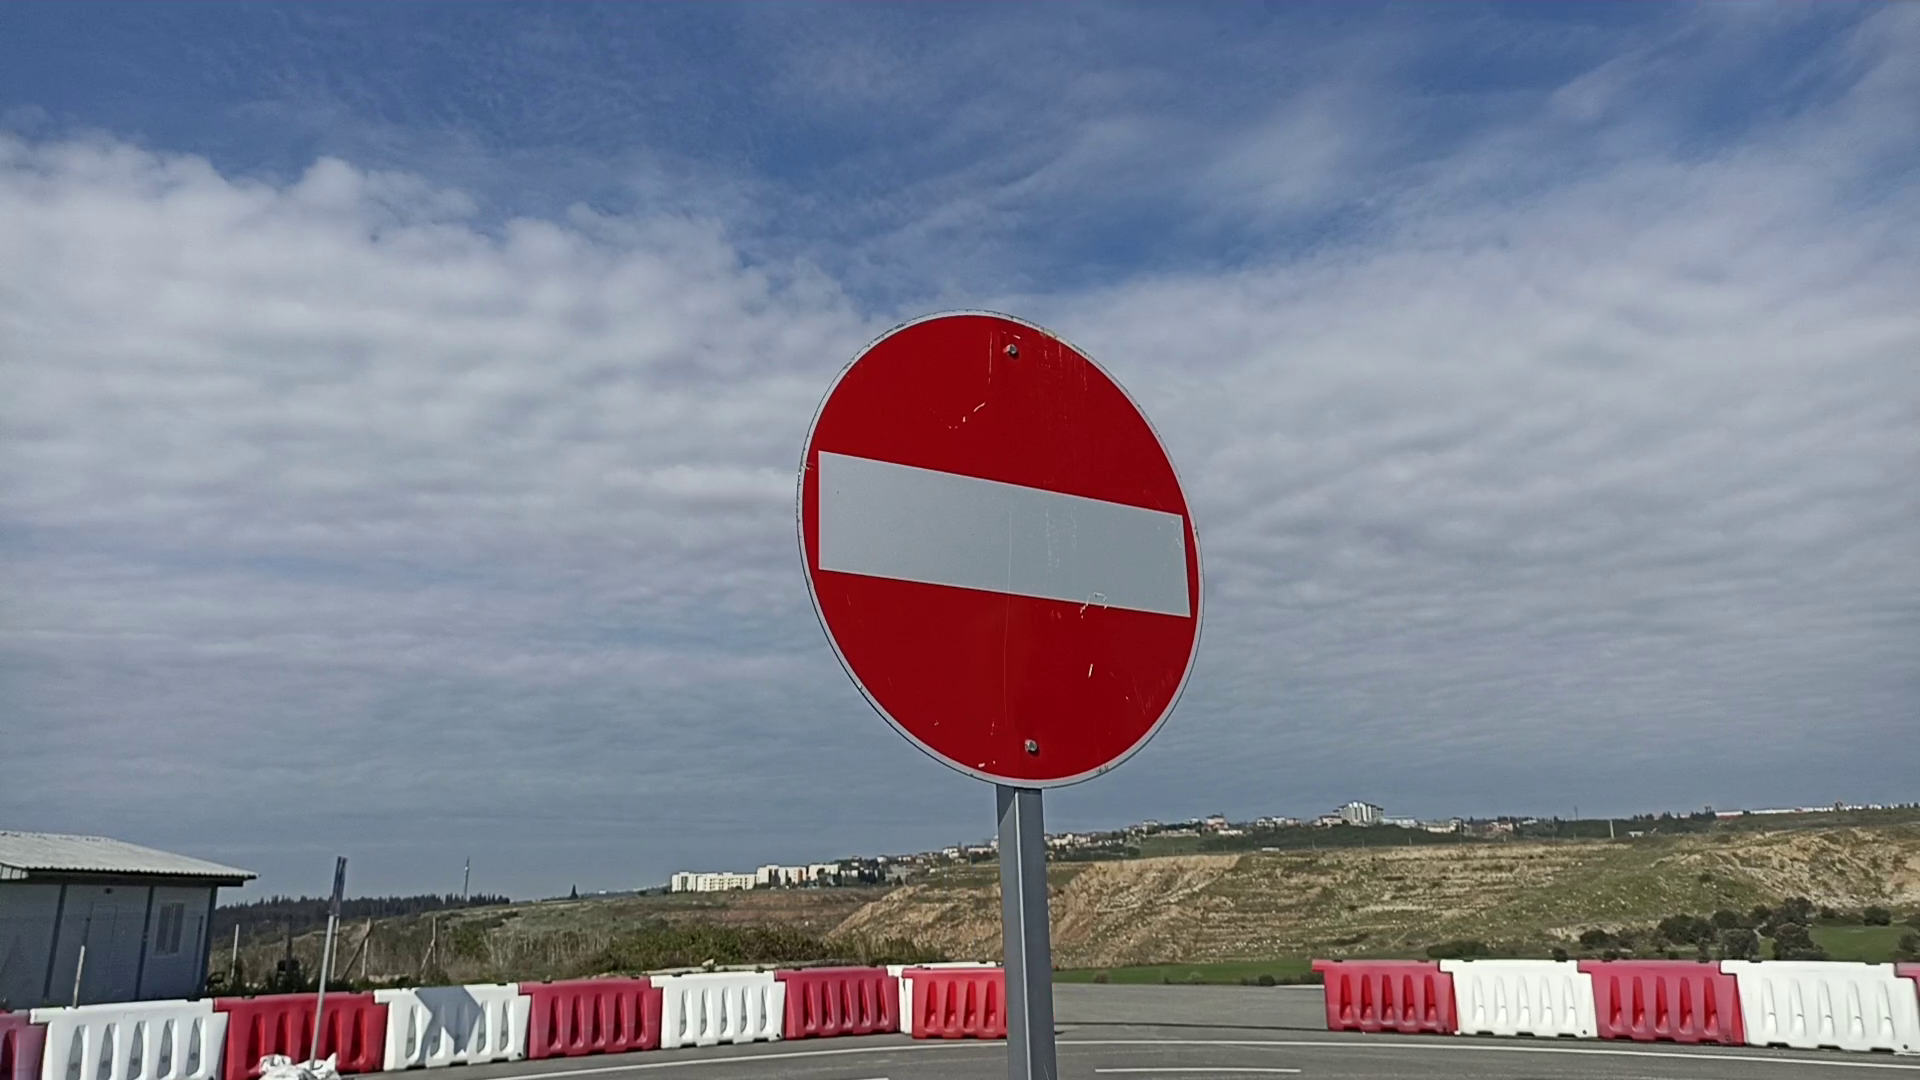noentryway: (790, 305, 1211, 795)
